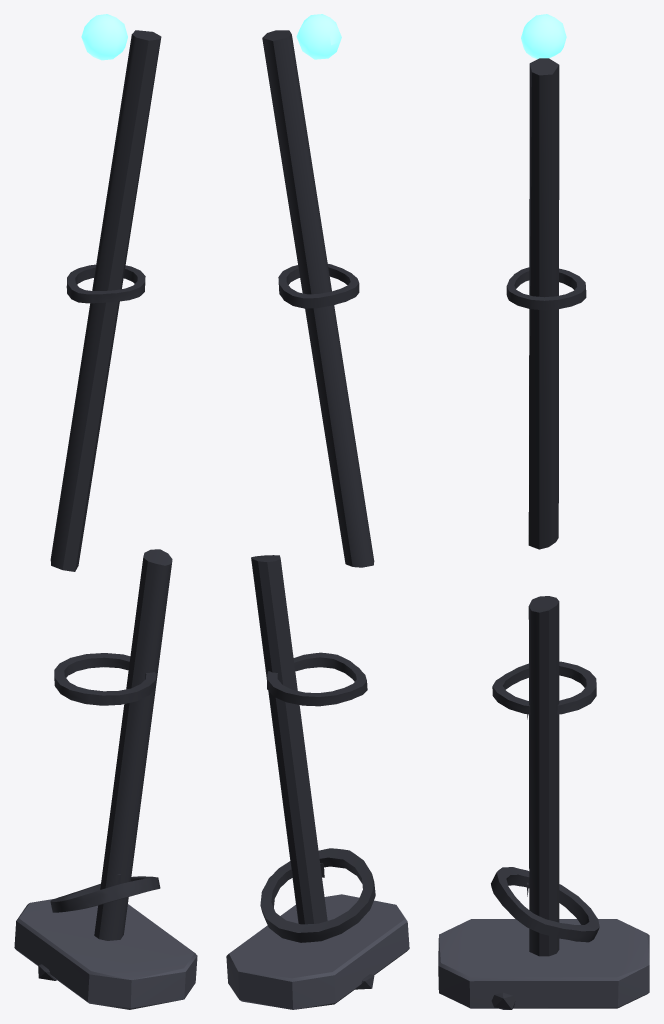
File: mrd_deb_timeline_relay_a.glb
3 renders of one model, left to right at view 1: azimuth 30°, elevation 25°; view 2: azimuth 150°, elevation 25°; view 3: azimuth 270°, elevation 25°, orthographic.
Parts seen in each view (by area): view 1: husk, frag_04, frag_01, frag_03, frag_02, frag_05; view 2: husk, frag_04, frag_03, frag_01, frag_02, frag_05; view 3: husk, frag_04, frag_03, frag_01, frag_02, frag_05.
Boxes of the visible parts, x1=… form: husk: x1=14, y1=549, x2=197, y2=1009; frag_04: x1=50, y1=30, x2=161, y2=571; frag_01: x1=54, y1=653, x2=156, y2=705; frag_03: x1=50, y1=876, x2=160, y2=912; frag_02: x1=66, y1=264, x2=145, y2=303; frag_05: x1=81, y1=14, x2=127, y2=60; husk: x1=226, y1=555, x2=409, y2=1009; frag_04: x1=262, y1=30, x2=374, y2=567; frag_03: x1=260, y1=848, x2=375, y2=942; frag_01: x1=267, y1=652, x2=367, y2=706; frag_02: x1=278, y1=264, x2=359, y2=308; frag_05: x1=296, y1=14, x2=341, y2=59; husk: x1=438, y1=596, x2=649, y2=1009; frag_04: x1=528, y1=58, x2=559, y2=549; frag_03: x1=491, y1=867, x2=599, y2=942; frag_01: x1=492, y1=661, x2=596, y2=714; frag_02: x1=506, y1=267, x2=586, y2=310; frag_05: x1=521, y1=14, x2=566, y2=59.
Size of the model in its own units: 0.2753 by 2.01 by 0.3976.
